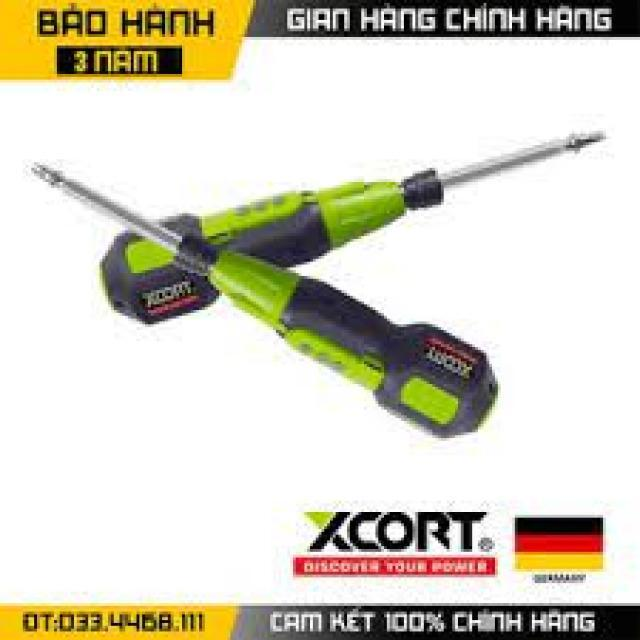screwdriver: (19, 154, 507, 446), (87, 128, 610, 327)
